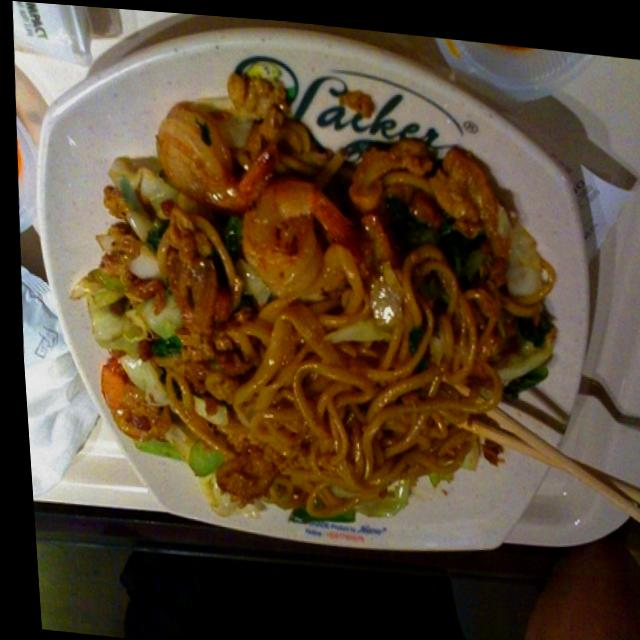面条主食: (37, 38, 589, 573)
